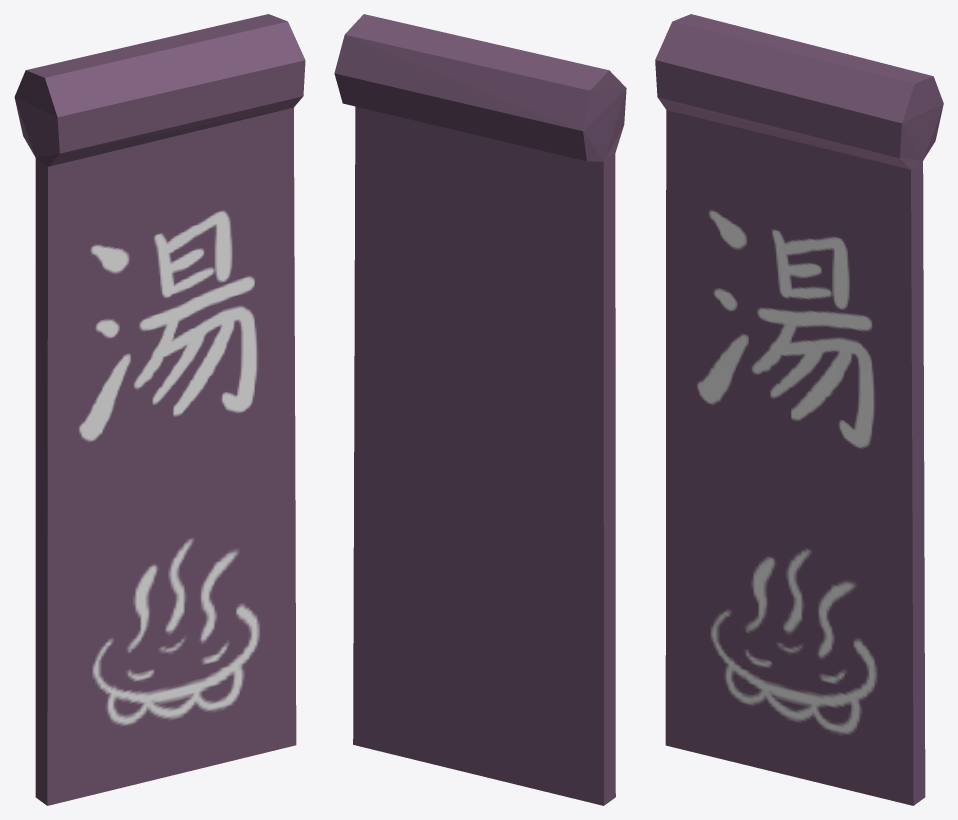
Rendered from MarketStall_Flag_Bath.fbx.
3 renders of one model, left to right at view 1: azimuth 30°, elevation 25°; view 2: azimuth 150°, elevation 25°; view 3: azimuth 330°, elevation 25°, orthographic.
Parts seen in each view (by area): view 1: MarketStall_Flag_Bath; view 2: MarketStall_Flag_Bath; view 3: MarketStall_Flag_Bath.
Boxes of the visible parts, x1,y1,x2,y2 form: MarketStall_Flag_Bath: (14,14,305,805); MarketStall_Flag_Bath: (334,14,626,805); MarketStall_Flag_Bath: (655,14,943,805).
Bounding box in the file's own units: 0.3827 × 1.06 × 0.1149.
Materials: 1 (1 with a texture image).
